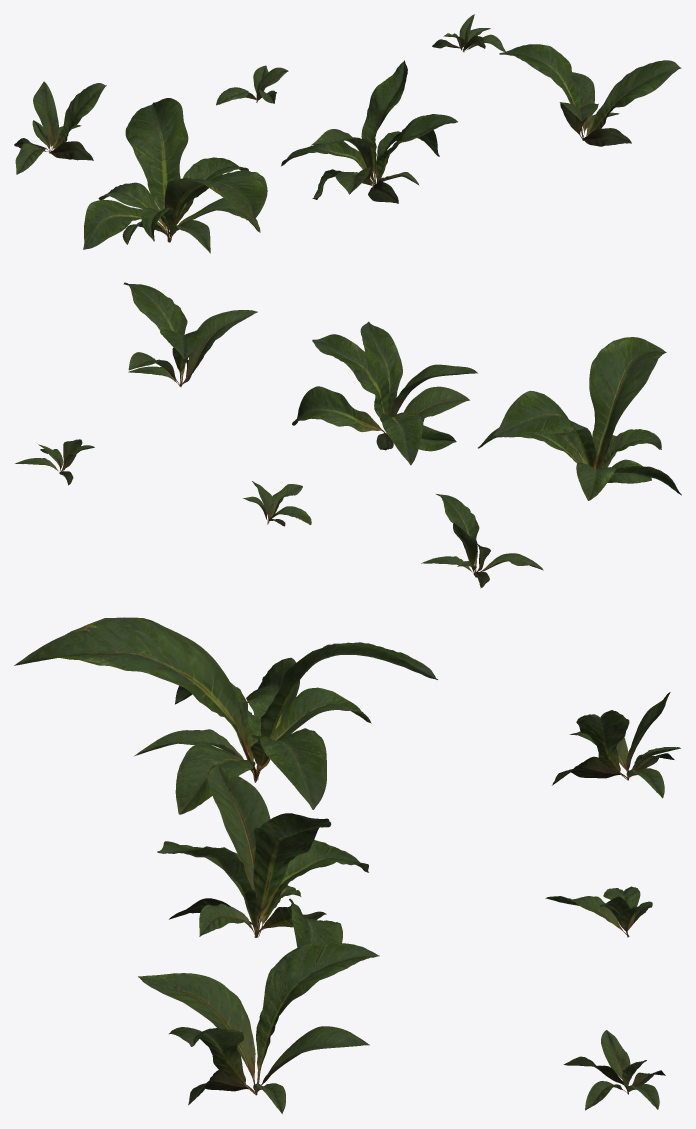
File: anthurium_botany_01.glb
The picture shows the model from 3 angles, top to bottom: view 1: azimuth 30°, elevation 25°; view 2: azimuth 150°, elevation 25°; view 3: azimuth 270°, elevation 25°; orthographic projection. The views are drawn at different scales.
Visible parts, largest first — view 1: anthurium_botany_01_a, anthurium_botany_01_b, anthurium_botany_01_c, anthurium_botany_04_d, anthurium_botany_05_e, anthurium_botany_06_f; view 2: anthurium_botany_01_a, anthurium_botany_01_b, anthurium_botany_01_c, anthurium_botany_04_d, anthurium_botany_05_e, anthurium_botany_06_f; view 3: anthurium_botany_01_a, anthurium_botany_01_b, anthurium_botany_01_c, anthurium_botany_04_d, anthurium_botany_06_f, anthurium_botany_05_e.
Boxes of the visible parts, x1=… form: anthurium_botany_01_a: x1=83, y1=98, x2=267, y2=253; anthurium_botany_01_b: x1=281, y1=60, x2=457, y2=203; anthurium_botany_01_c: x1=499, y1=44, x2=681, y2=146; anthurium_botany_04_d: x1=14, y1=81, x2=106, y2=174; anthurium_botany_05_e: x1=216, y1=65, x2=288, y2=105; anthurium_botany_06_f: x1=432, y1=14, x2=505, y2=52; anthurium_botany_01_a: x1=478, y1=337, x2=681, y2=500; anthurium_botany_01_b: x1=292, y1=321, x2=477, y2=465; anthurium_botany_01_c: x1=123, y1=282, x2=257, y2=386; anthurium_botany_04_d: x1=421, y1=494, x2=543, y2=588; anthurium_botany_05_e: x1=243, y1=481, x2=311, y2=526; anthurium_botany_06_f: x1=15, y1=439, x2=94, y2=485; anthurium_botany_01_a: x1=14, y1=617, x2=437, y2=814; anthurium_botany_01_b: x1=157, y1=763, x2=368, y2=981; anthurium_botany_01_c: x1=138, y1=942, x2=379, y2=1113; anthurium_botany_04_d: x1=552, y1=692, x2=680, y2=798; anthurium_botany_06_f: x1=563, y1=1030, x2=665, y2=1110; anthurium_botany_05_e: x1=545, y1=886, x2=652, y2=937.
Size of the model in its own units: 2.8 by 0.4996 by 1.8.
1 material, 1 textured.
